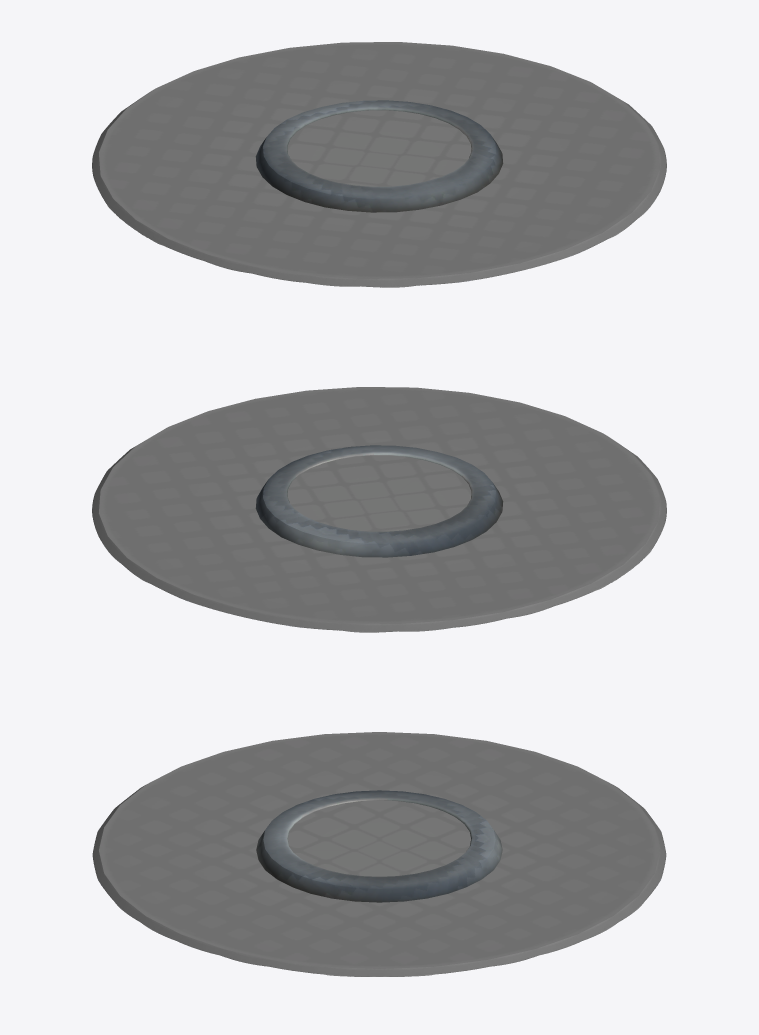
Rendered from pref_TPC_v2_WSJ_NeutralScoreArea03_orange_static_lv2.fbx.
3 renders of one model, top to bottom at view 1: azimuth 30°, elevation 25°; view 2: azimuth 150°, elevation 25°; view 3: azimuth 270°, elevation 25°, orthographic.
Visible parts, largest first — view 1: sm_prop_platform06a_lv2, sm_prop_platform06b_lv2; view 2: sm_prop_platform06a_lv2, sm_prop_platform06b_lv2; view 3: sm_prop_platform06a_lv2, sm_prop_platform06b_lv2.
Part boxes in pixels (x1,y1,x2,y2): sm_prop_platform06a_lv2: (92, 42, 666, 287); sm_prop_platform06b_lv2: (255, 100, 503, 212); sm_prop_platform06a_lv2: (92, 387, 666, 632); sm_prop_platform06b_lv2: (255, 445, 503, 557); sm_prop_platform06a_lv2: (92, 732, 666, 976); sm_prop_platform06b_lv2: (256, 790, 502, 902).
Size of the model in its own units: 7.46 by 0.3251 by 7.46.
